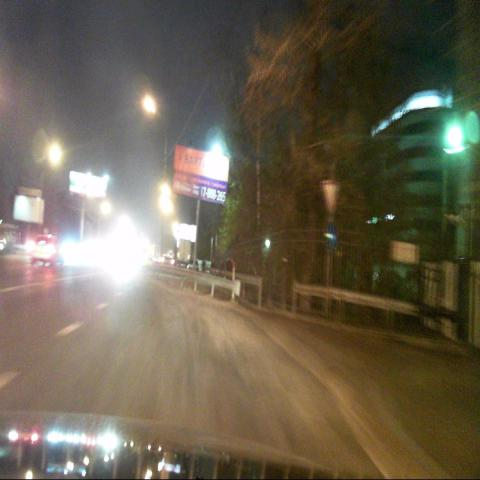4_1_2_1: (324, 222, 336, 251)
